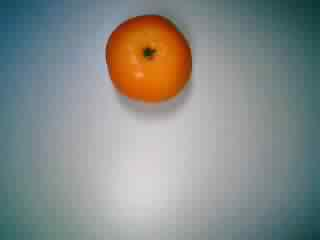orange: (99, 13, 196, 107)
